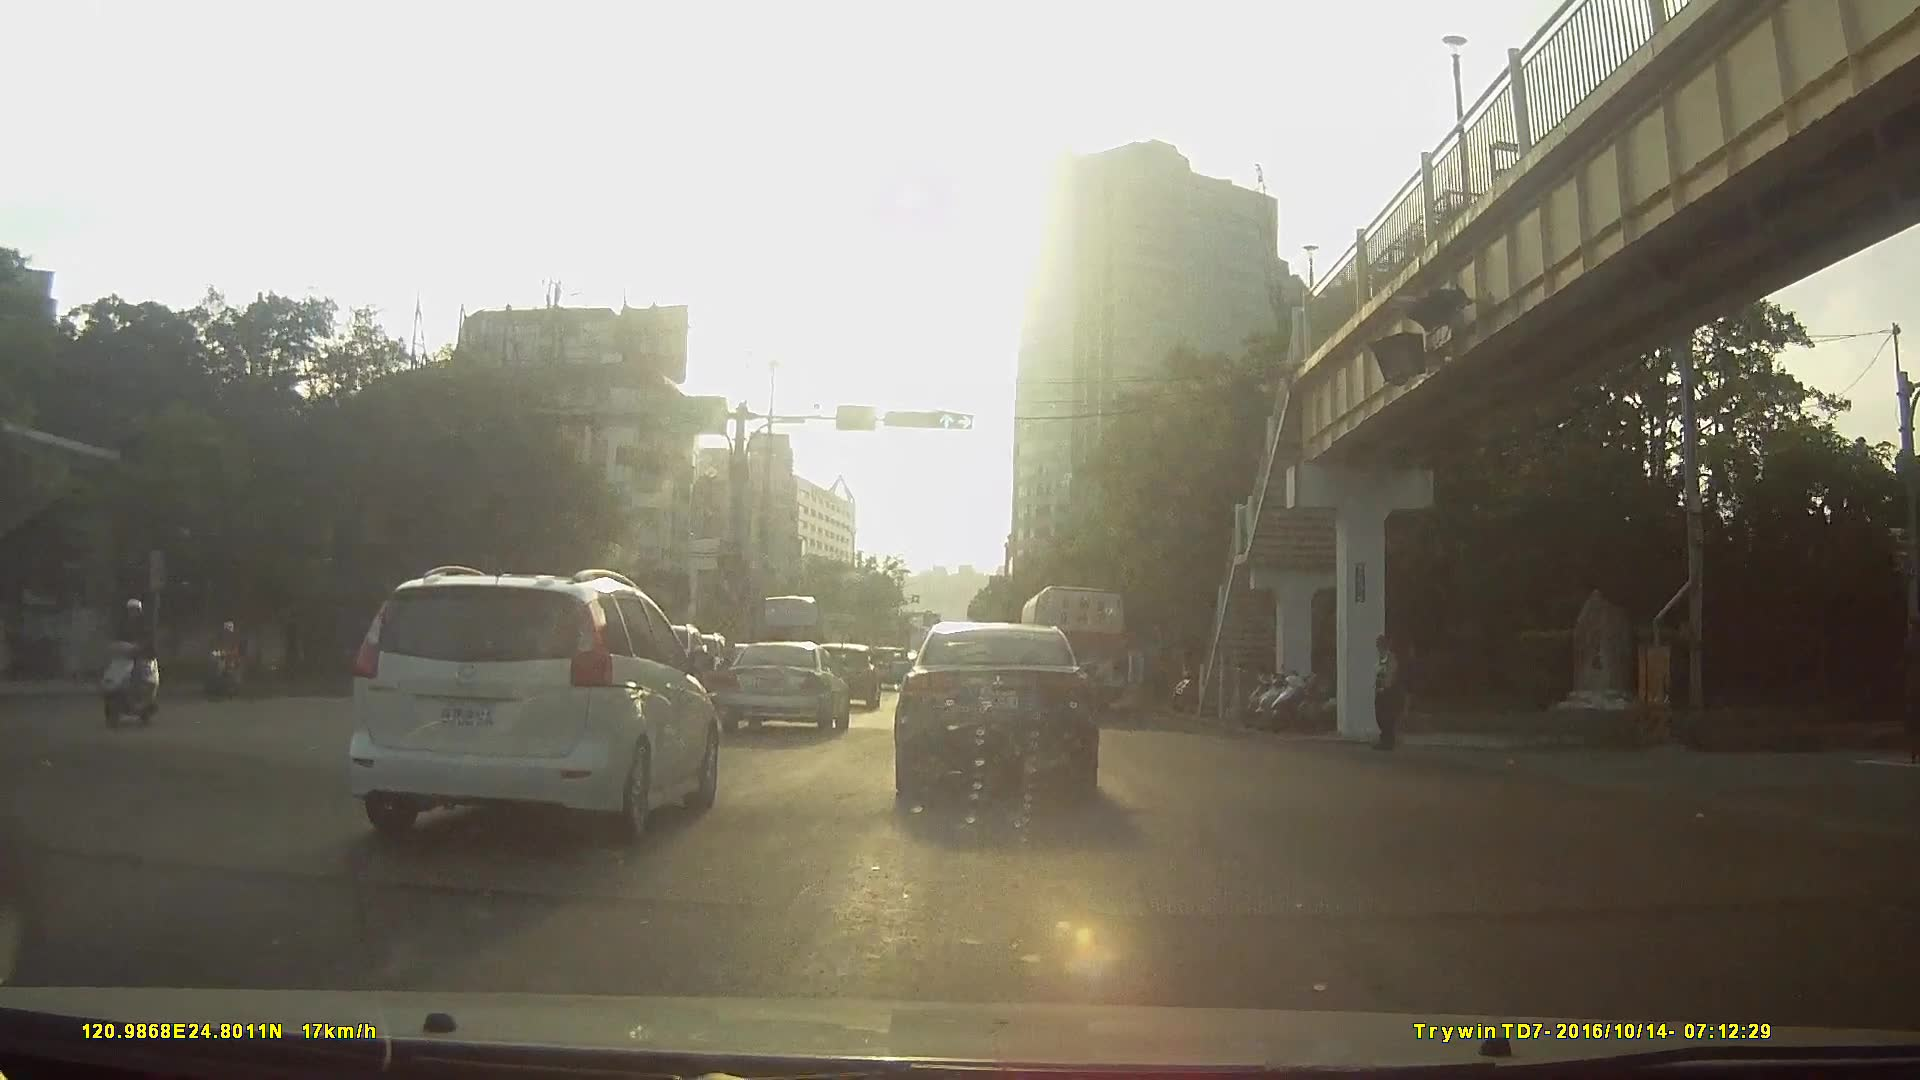pedestrian: (1369, 631, 1409, 754)
rider: (97, 598, 164, 727), (201, 619, 246, 699)
vehicle: (345, 564, 716, 845), (890, 620, 1096, 806), (1017, 581, 1123, 710), (714, 641, 851, 737), (746, 592, 820, 671), (805, 642, 876, 711), (860, 641, 909, 690)
